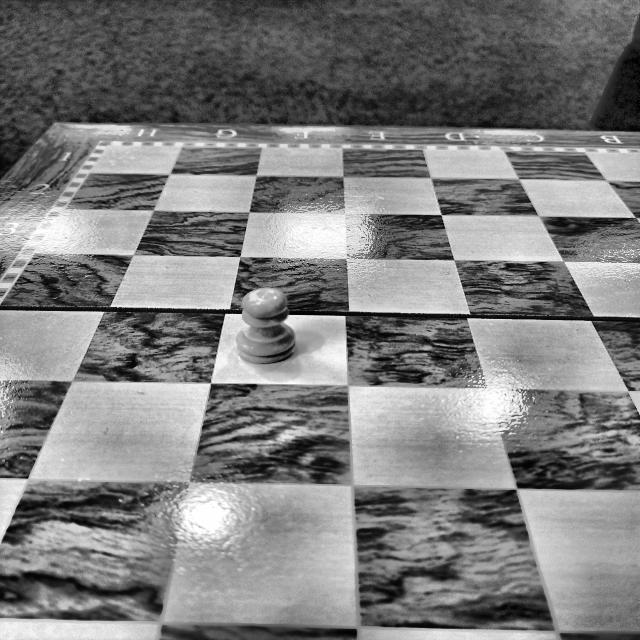white-pawn: (238, 285, 299, 363)
